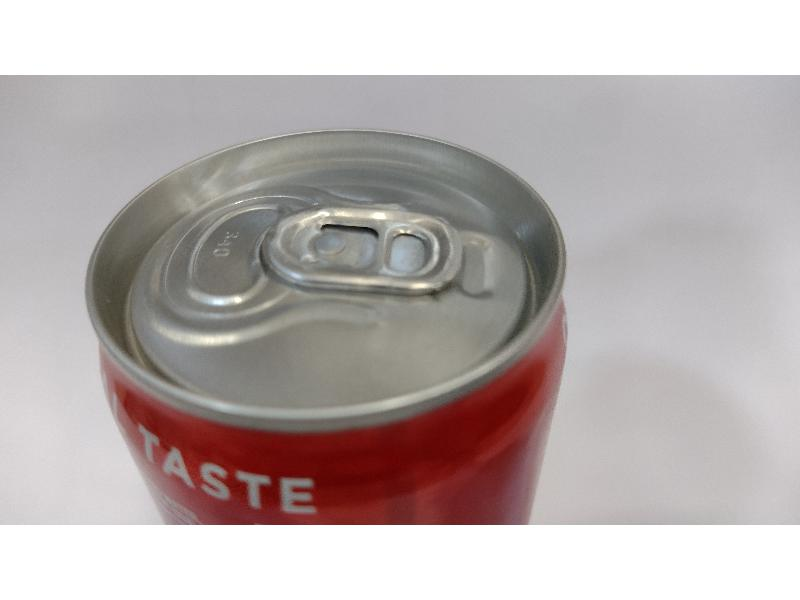can: (84, 127, 568, 524)
